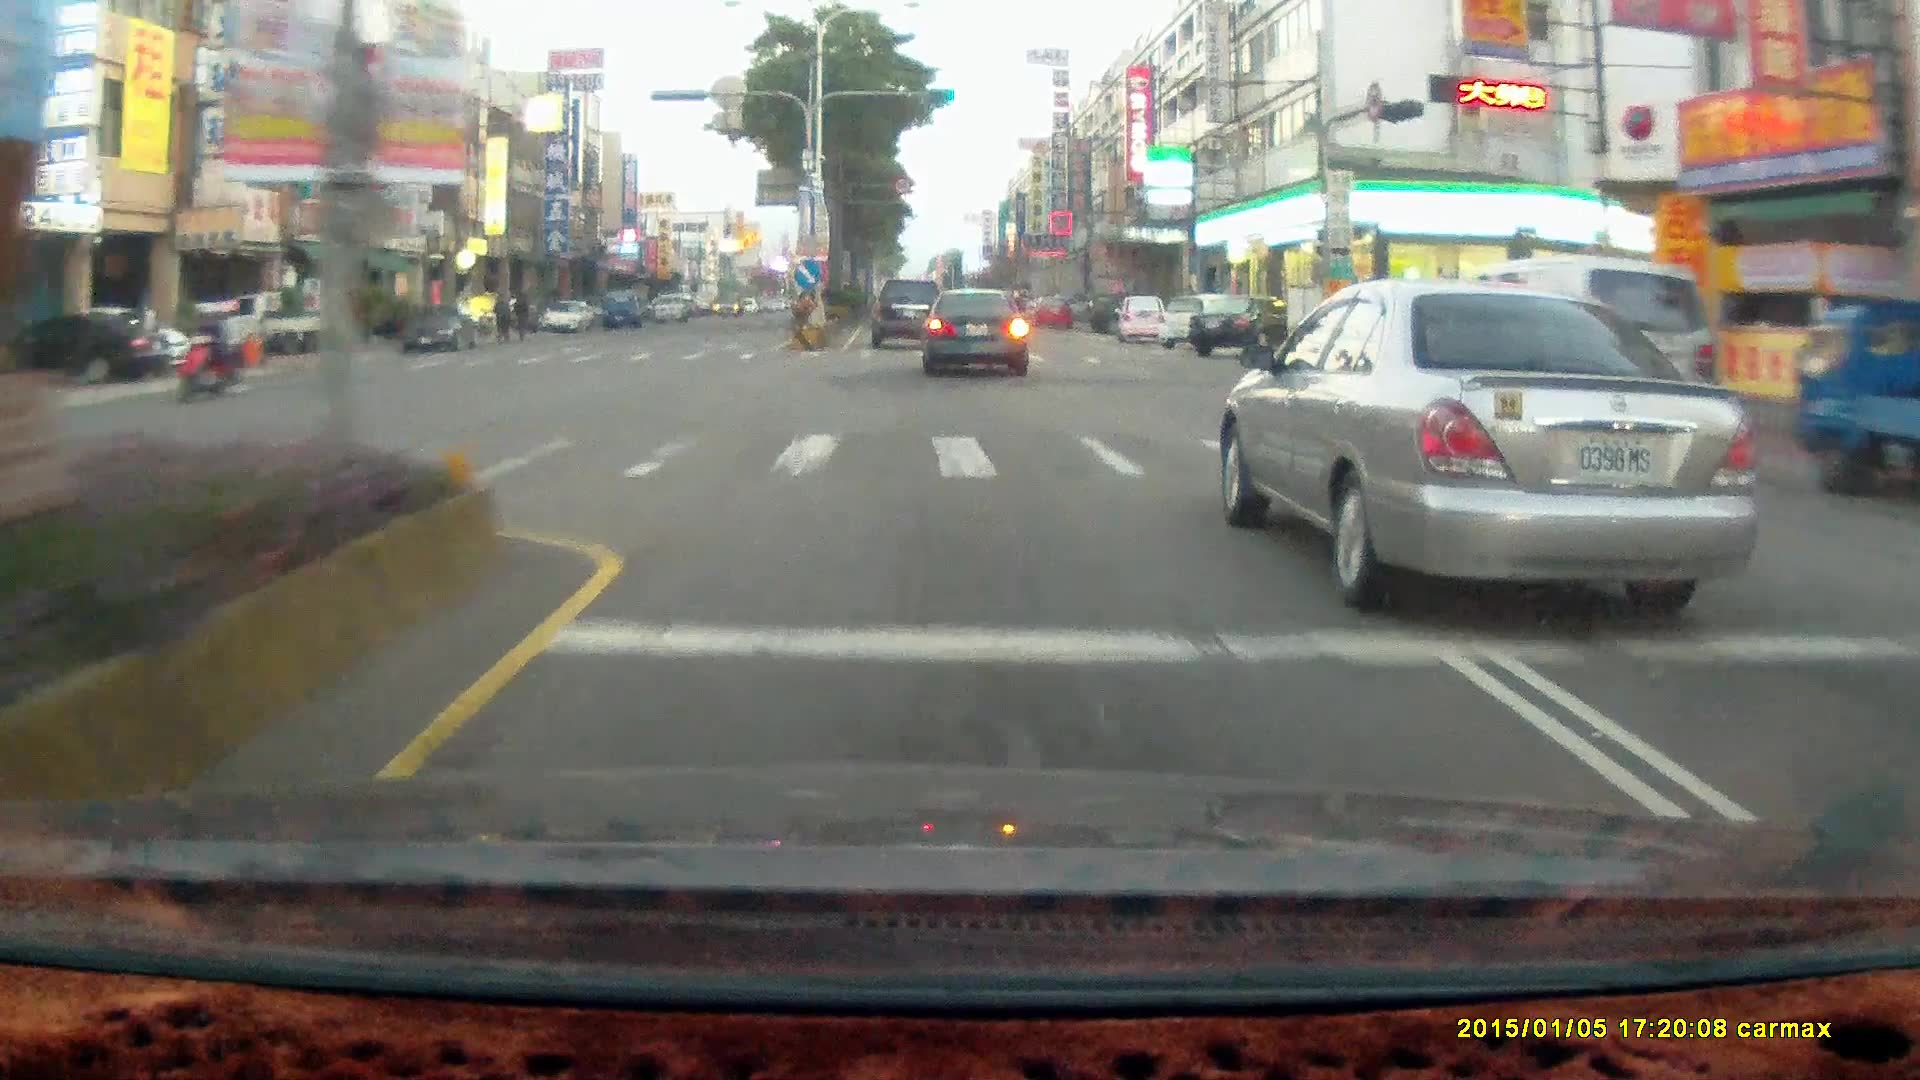pedestrian: (512, 282, 534, 339), (490, 286, 512, 341), (490, 288, 512, 342), (510, 289, 530, 342)
rider: (163, 299, 248, 401)
vehicle: (1222, 282, 1760, 601), (1406, 255, 1725, 469), (1404, 257, 1724, 466), (1792, 301, 1920, 518), (1, 306, 178, 384), (1, 310, 178, 383), (214, 292, 360, 368), (189, 290, 351, 357), (924, 291, 1034, 382), (922, 286, 1028, 377), (1186, 292, 1305, 356), (1187, 295, 1291, 359), (867, 274, 943, 351), (869, 278, 945, 349), (1157, 292, 1243, 349), (398, 299, 485, 357), (402, 309, 479, 351), (1118, 297, 1173, 349), (1111, 295, 1169, 345), (1085, 289, 1150, 332), (539, 299, 597, 336), (538, 298, 591, 331), (601, 289, 639, 325), (1031, 294, 1072, 327), (646, 292, 680, 319)
